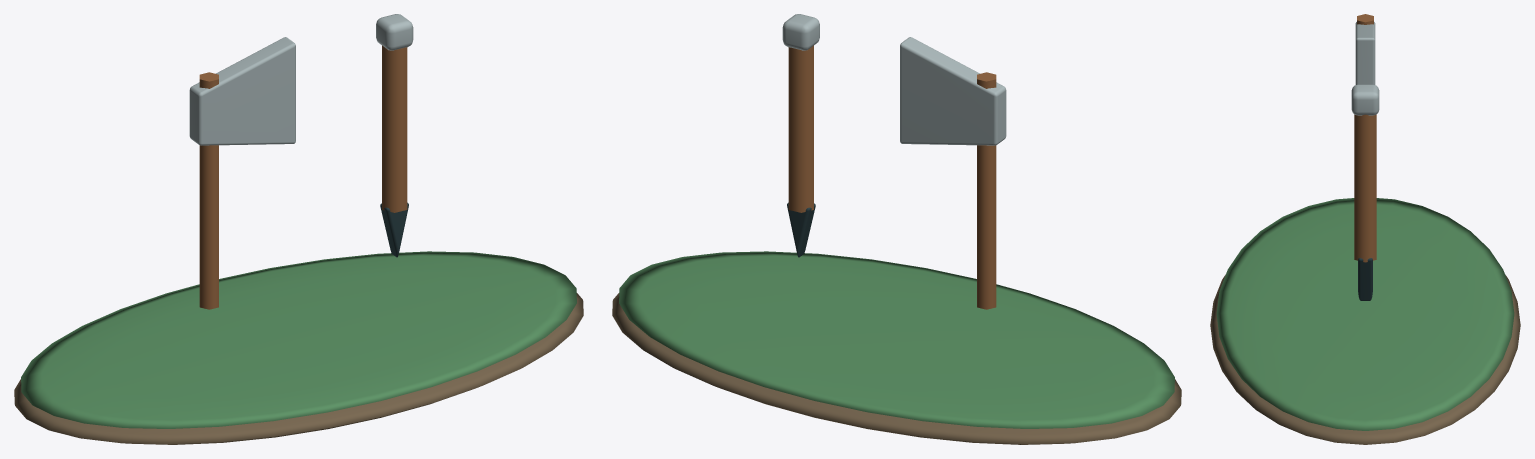
File: work-tools.glb
3 views of the same model, side by side, from view 1: azimuth 30°, elevation 25°; view 2: azimuth 150°, elevation 25°; view 3: azimuth 270°, elevation 25° (orthographic). The views are drawn at different scales.
Visible parts, largest first — view 1: work-tools_surface_01, work-tools_surface_03, work-tools_surface_00, work-tools_surface_02, work-tools_surface_04; view 2: work-tools_surface_01, work-tools_surface_03, work-tools_surface_00, work-tools_surface_02, work-tools_surface_04; view 3: work-tools_surface_01, work-tools_surface_00, work-tools_surface_02, work-tools_surface_03, work-tools_surface_04.
Part boxes in pixels (<box>): work-tools_surface_01: <box>21,251,576,428</box>; work-tools_surface_03: <box>189,14,413,145</box>; work-tools_surface_00: <box>14,293,583,444</box>; work-tools_surface_02: <box>199,45,407,309</box>; work-tools_surface_04: <box>380,202,408,257</box>; work-tools_surface_01: <box>619,251,1174,428</box>; work-tools_surface_03: <box>782,14,1006,145</box>; work-tools_surface_00: <box>612,293,1181,444</box>; work-tools_surface_02: <box>788,45,996,309</box>; work-tools_surface_04: <box>787,202,815,257</box>; work-tools_surface_01: <box>1216,198,1514,430</box>; work-tools_surface_00: <box>1210,274,1520,444</box>; work-tools_surface_02: <box>1354,14,1376,262</box>; work-tools_surface_03: <box>1351,22,1379,115</box>; work-tools_surface_04: <box>1358,258,1372,300</box>.
Bounding box in the file's own units: 4.56 × 2.65 × 2.5.
